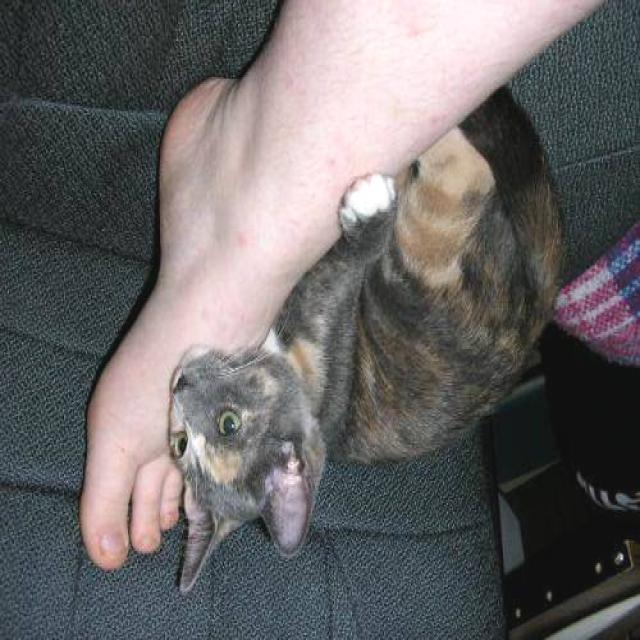Kucing: (162, 121, 601, 604)
